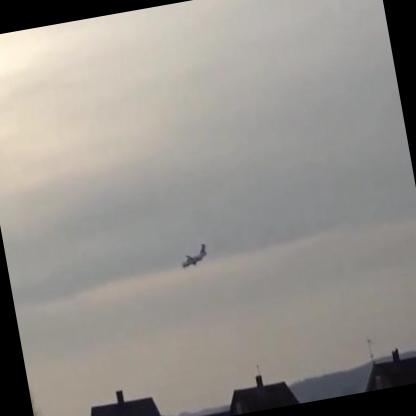plane: (177, 244, 210, 271)
